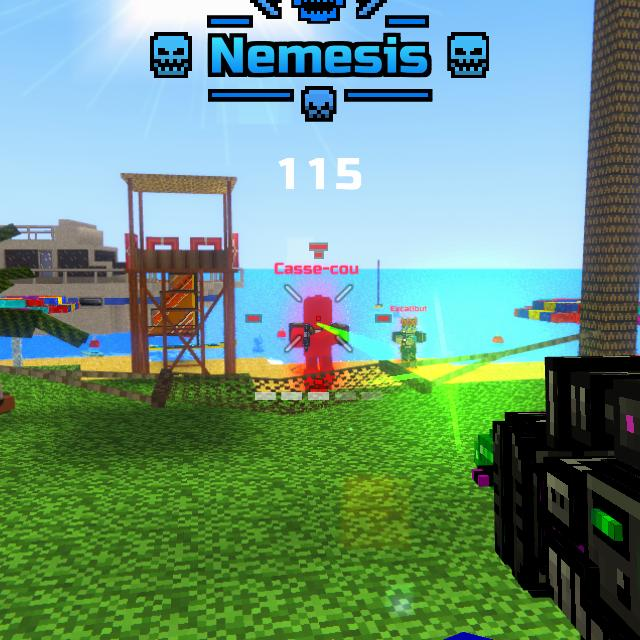Enemy: (295, 295, 348, 388)
